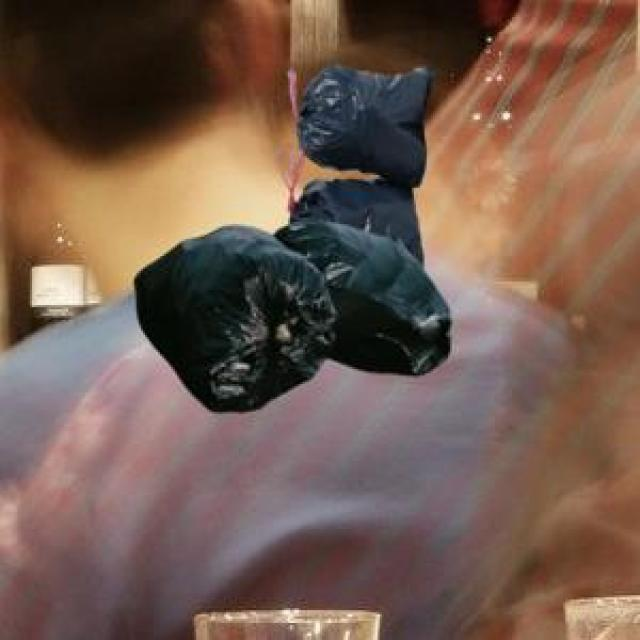waste: (136, 70, 450, 411)
